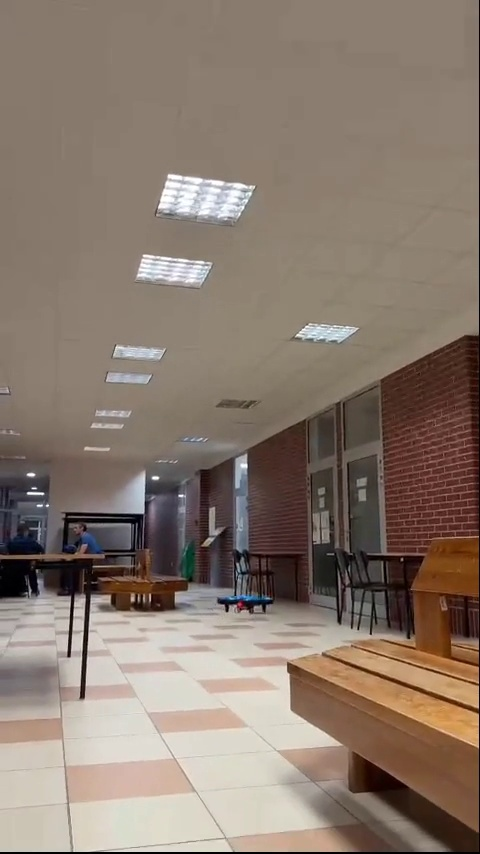drone: (219, 592, 274, 623)
no vest: (57, 518, 102, 590), (6, 511, 42, 586)
